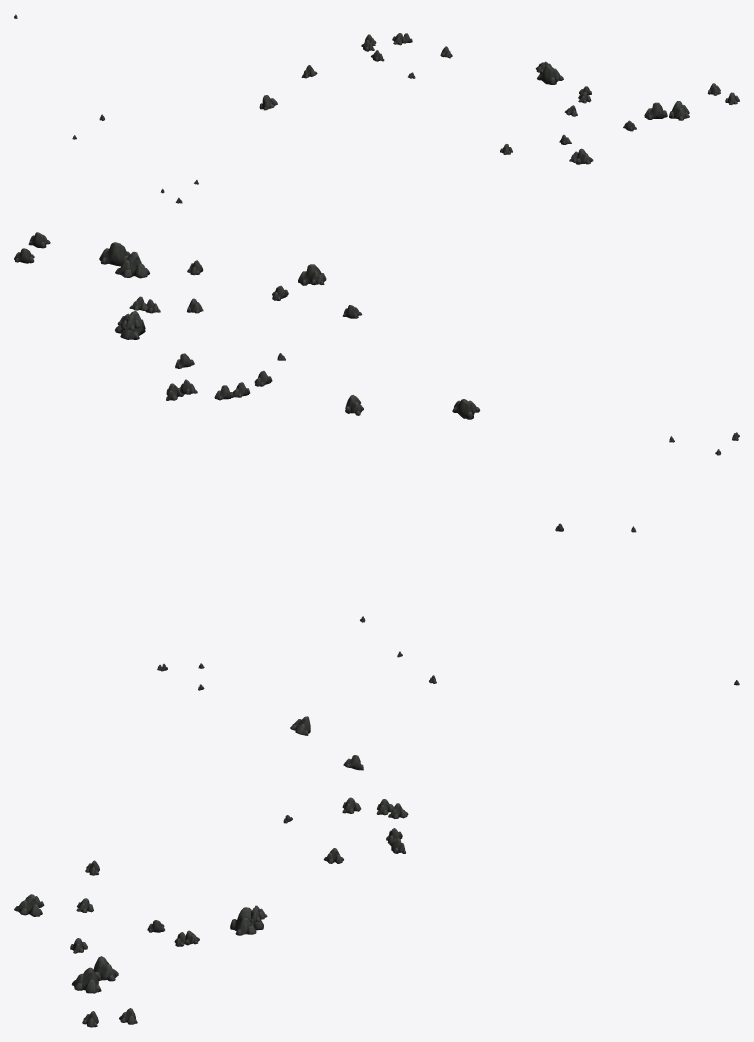
File: SmallRockBlock.FBX
3 renders of one model, top to bottom at view 1: azimuth 30°, elevation 25°; view 2: azimuth 150°, elevation 25°; view 3: azimuth 270°, elevation 25°, orthographic. The views are drawn at different scales.
Parts seen in each view (by area): view 1: stonelowpoly001; view 2: stonelowpoly001; view 3: stonelowpoly001.
Boxes of the visible parts, x1=… form: stonelowpoly001: x1=14, y1=14, x2=739, y2=203; stonelowpoly001: x1=14, y1=232, x2=739, y2=622; stonelowpoly001: x1=14, y1=651, x2=739, y2=1027.
Size of the model in its own units: 1293 by 101 by 1107.
